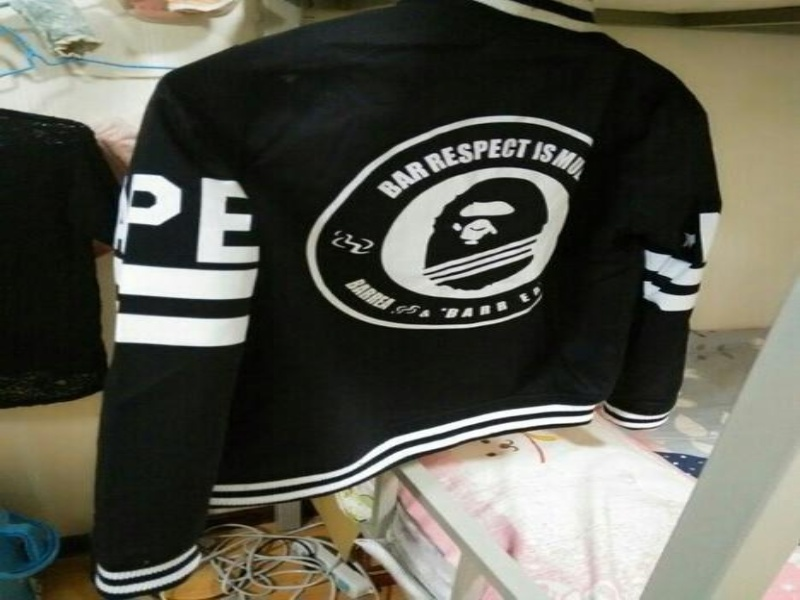long_sleeved_shirt: (65, 0, 740, 599)
